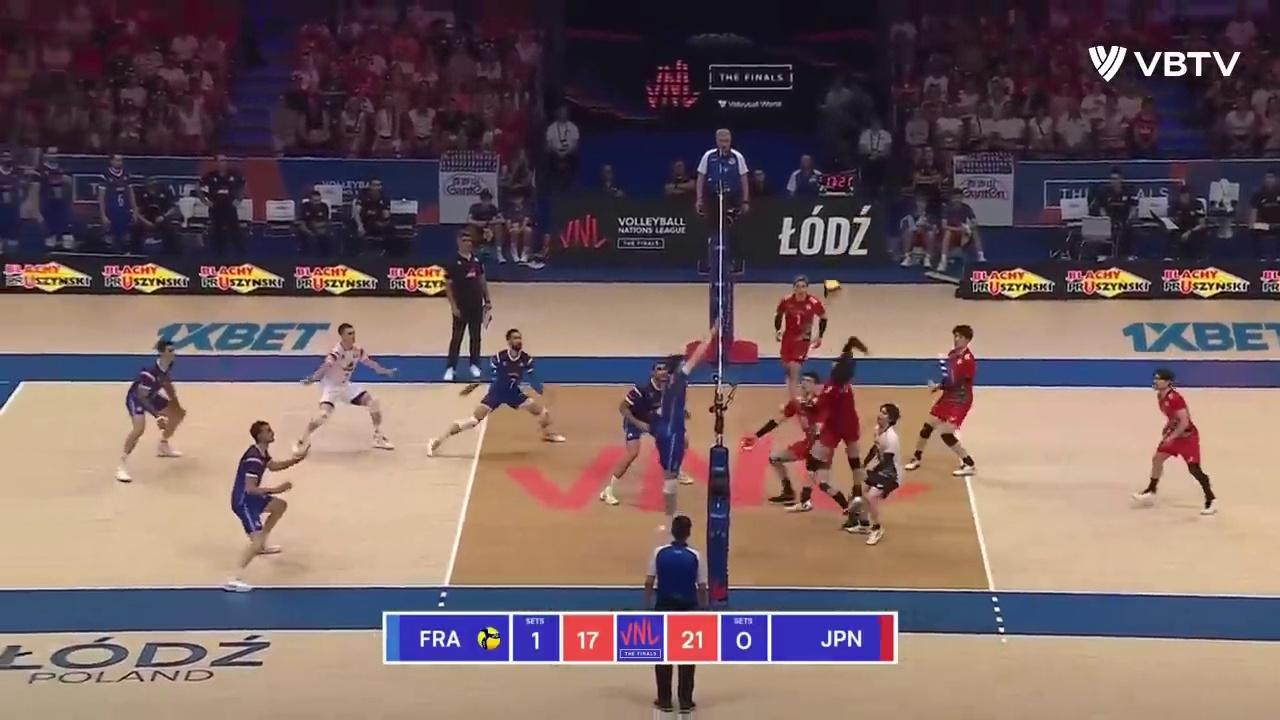ball: (822, 280, 842, 301)
